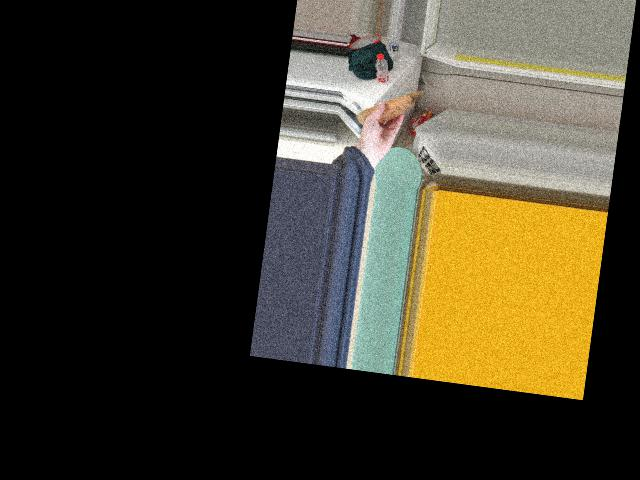sweet_potato: (370, 89, 408, 126)
